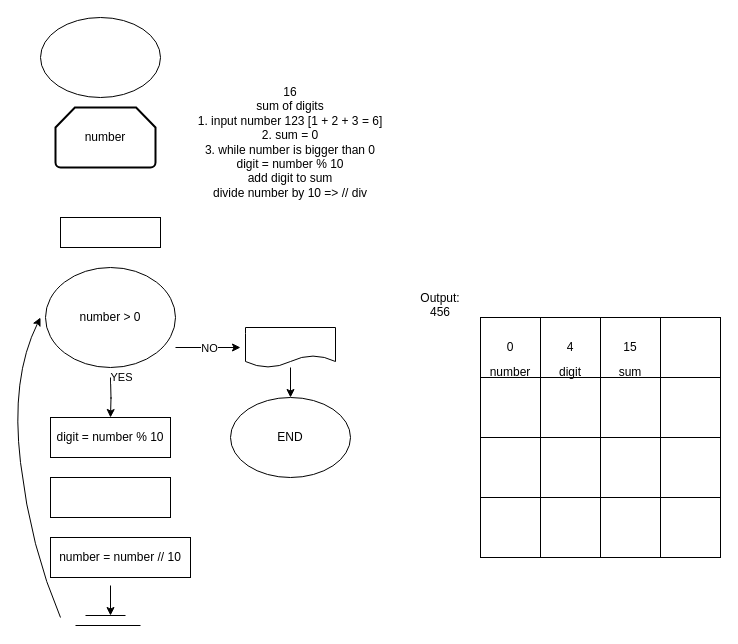
Some shapes in this 738 by 644 pixel diagram are drawn without their labels. Each missing label, with the box of its shape:
result: (244, 326, 336, 368)
START: (40, 16, 160, 98)
sum += digit: (50, 476, 170, 518)
sum = 0: (60, 216, 160, 248)
